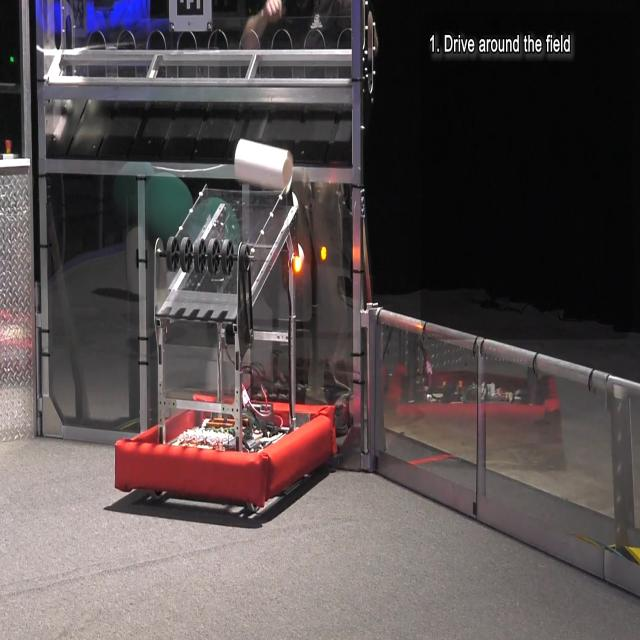Coral: (233, 136, 293, 193)
